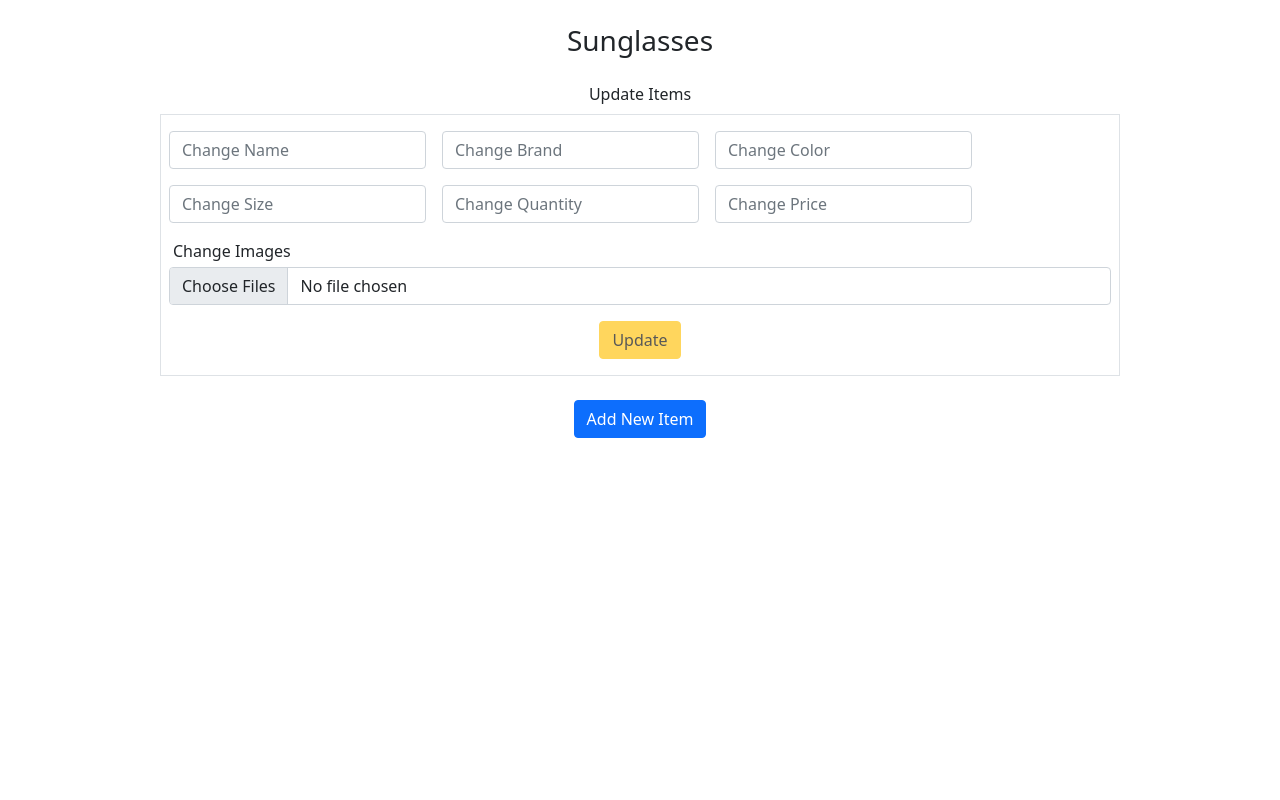
Test: Testing Items component › Testing the component when the updates are succeeded
The image size is (1280, 800).
# Changing the quantities
Type "5" into the number field with placeholder "Change Quantity" at (570, 204), box [442,185,699,223]
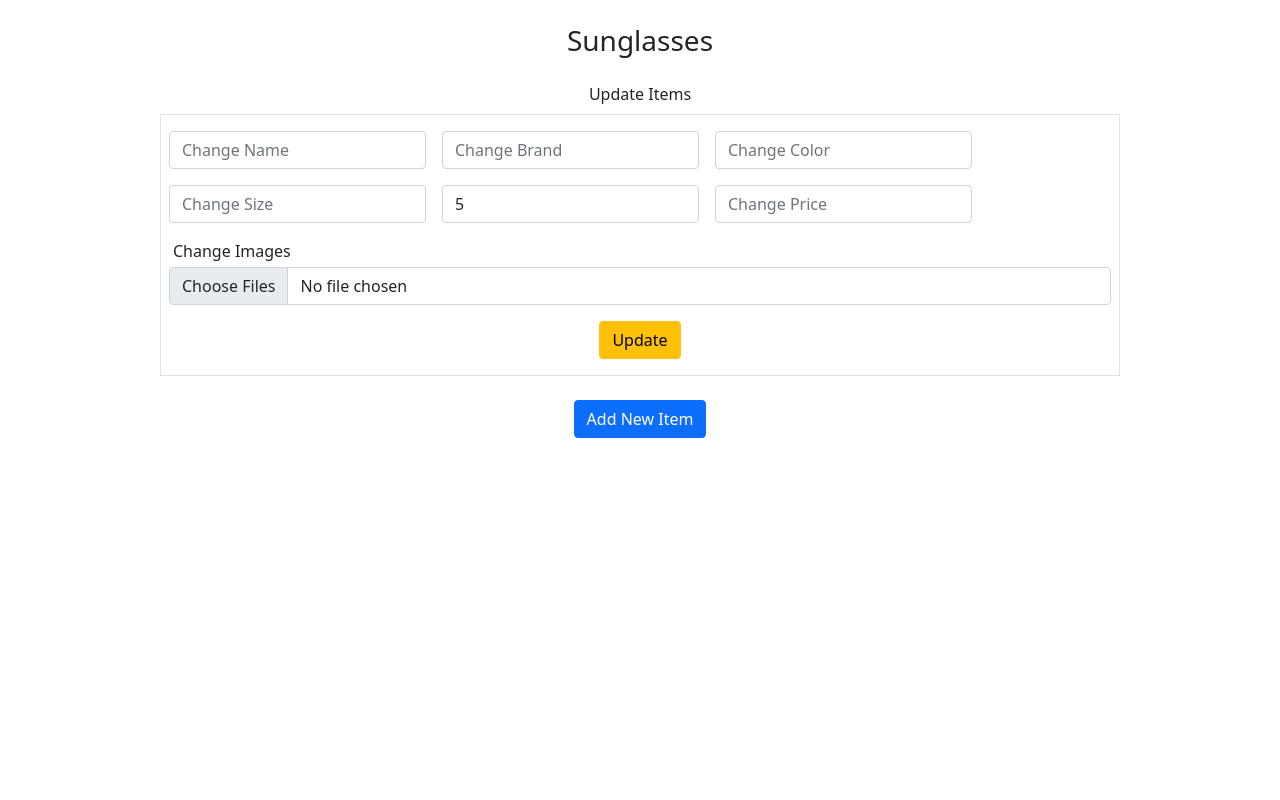
# clicking the update button
Click the button "Update" at (640, 340), box [599,321,681,359]
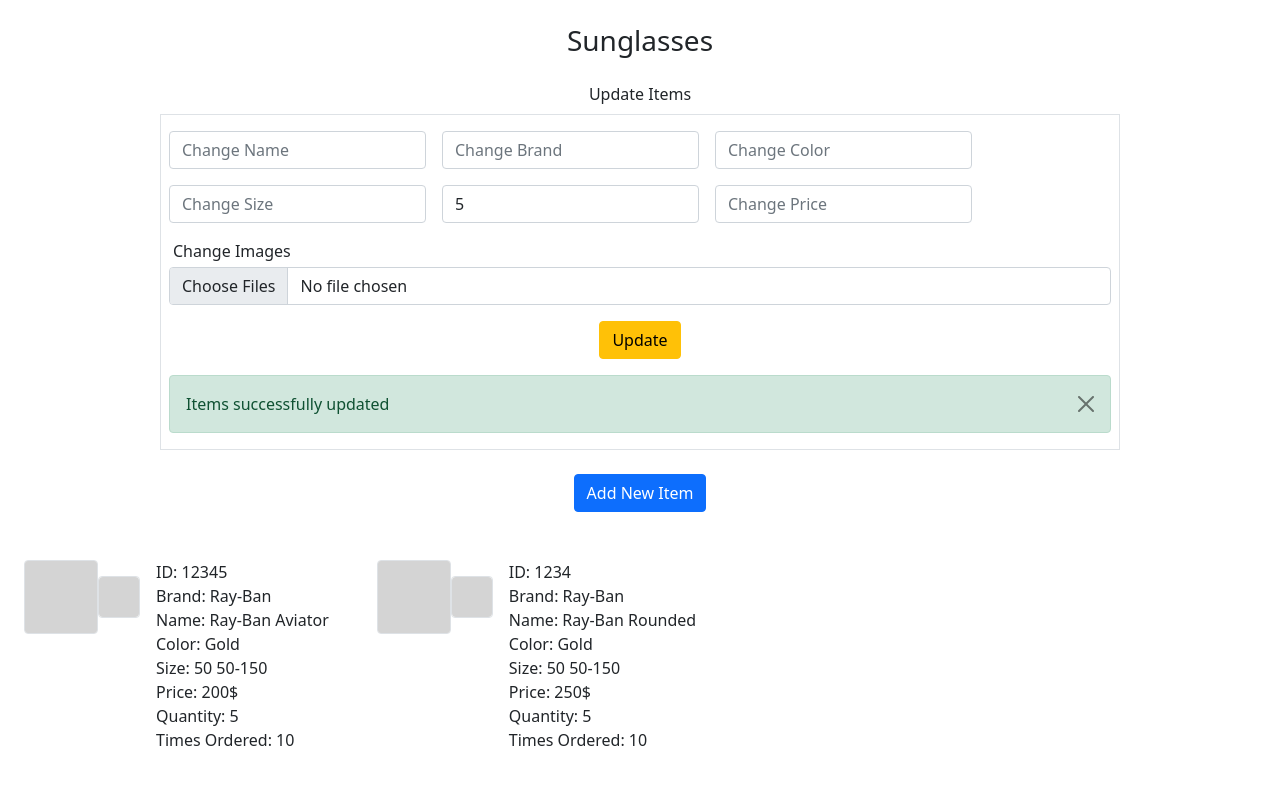
Result: the text "Items successfully updated" is shown at [186,393,389,415]
